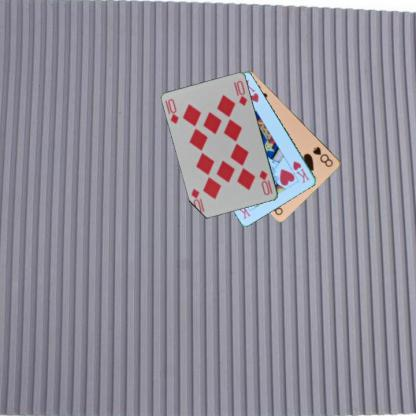10d: (256, 168, 274, 196), (166, 96, 180, 125)
8s: (310, 144, 335, 168)
Kh: (291, 158, 310, 184)
